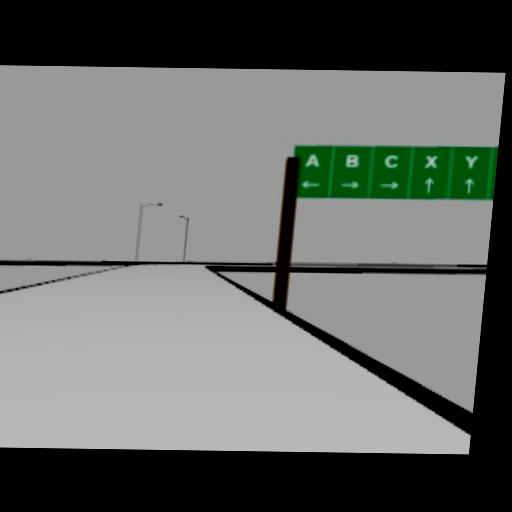A: (304, 153, 320, 166)
B: (344, 154, 360, 167)
C: (384, 154, 398, 168)
Left: (298, 180, 321, 188)
Right: (339, 180, 360, 189), (377, 181, 400, 189)
Straight: (423, 177, 435, 195), (462, 177, 474, 194)
X: (424, 155, 438, 168)
Y: (462, 154, 478, 169)
